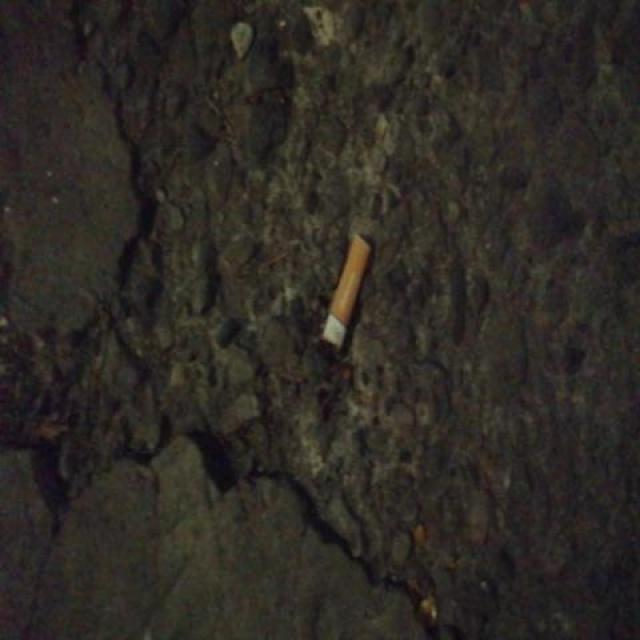non-organic waste: (314, 226, 374, 357)
